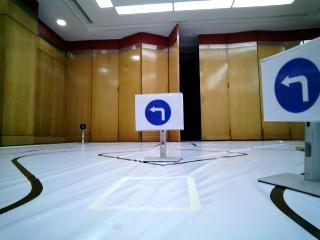left: (267, 58, 319, 114), (132, 91, 188, 135)
